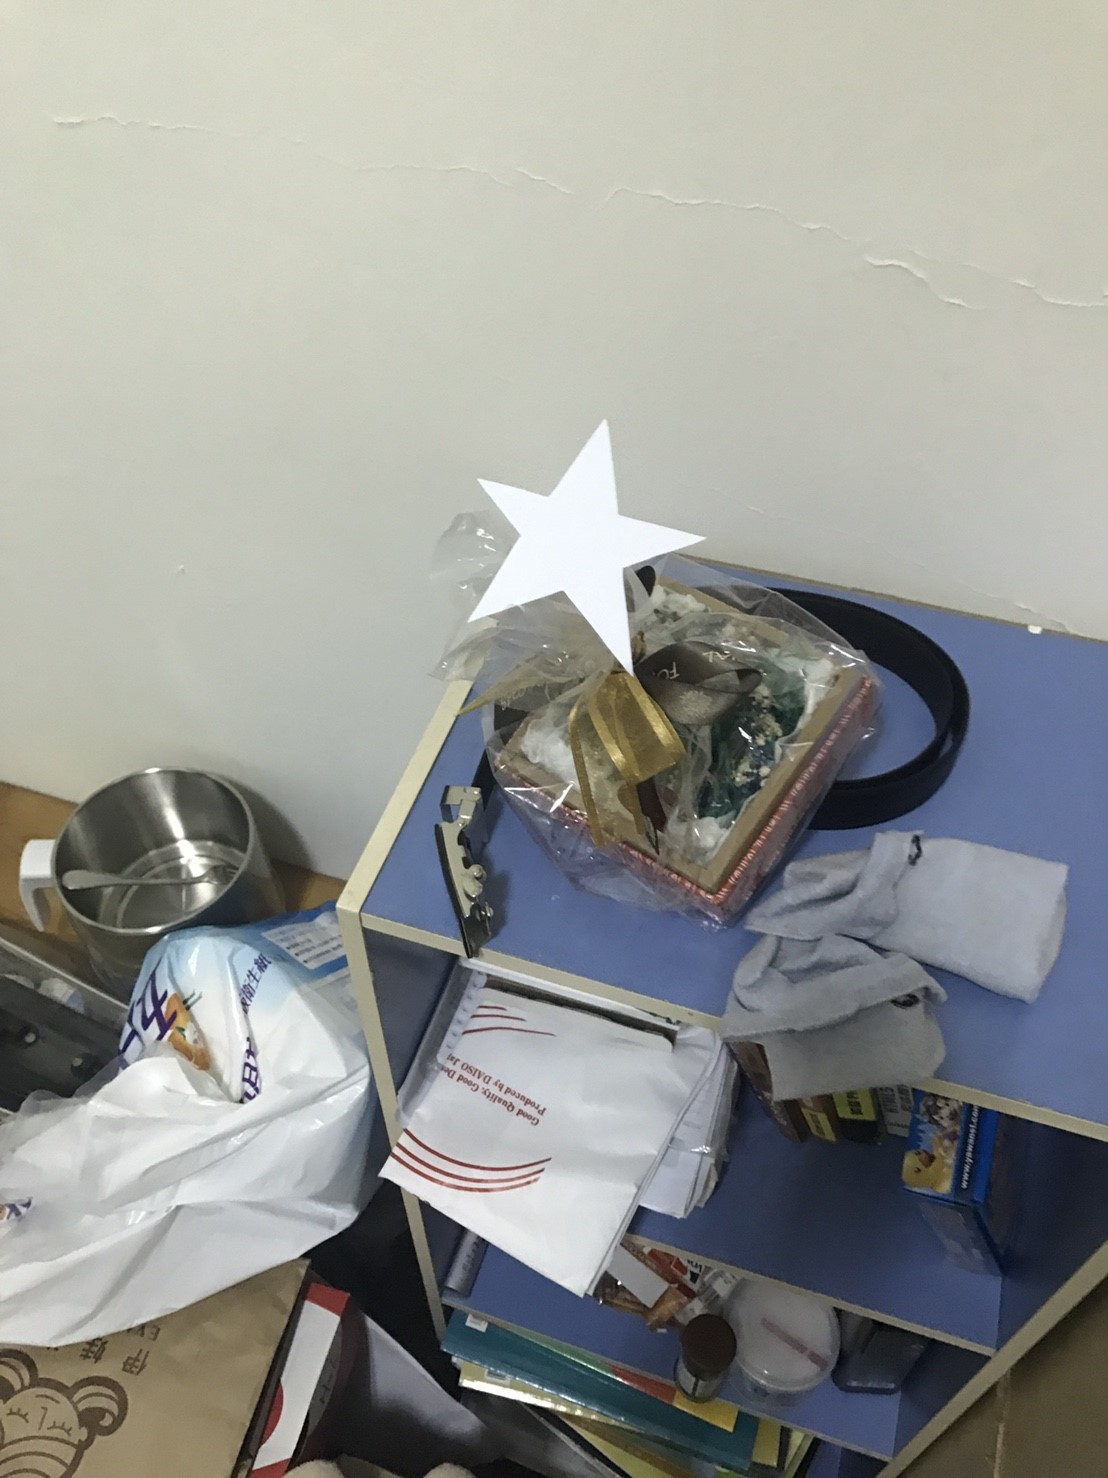star: (452, 412, 699, 706)
